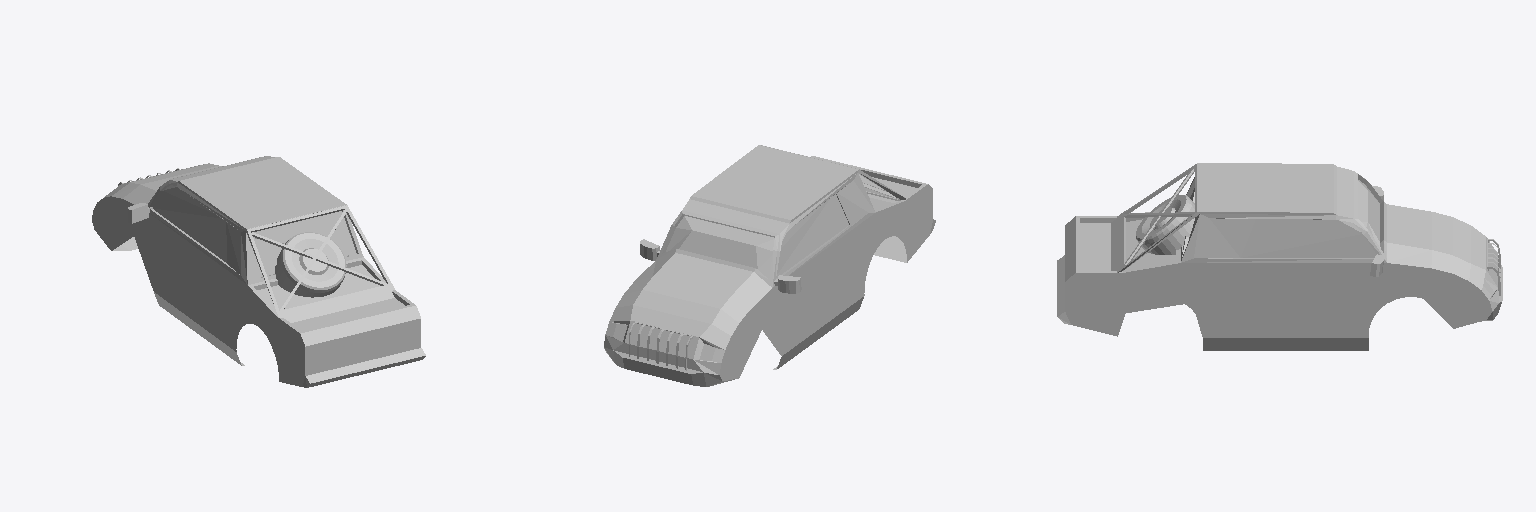
File: carbodyv1.obj
3 renders of one model, left to right at view 1: azimuth 30°, elevation 25°; view 2: azimuth 150°, elevation 25°; view 3: azimuth 270°, elevation 25°, orthographic.
Visible parts, largest first — view 1: Cube_Cube.001; view 2: Cube_Cube.001, Cube.001_Cube.005; view 3: Cube_Cube.001.
Part boxes in pixels (left/top/right/bottom): Cube_Cube.001: left=92, top=156, right=425, bottom=387; Cube_Cube.001: left=604, top=145, right=935, bottom=386; Cube.001_Cube.005: left=640, top=239, right=801, bottom=293; Cube_Cube.001: left=1057, top=163, right=1502, bottom=350.
Bounding box in the file's own units: 2.75 × 2.27 × 6.65.